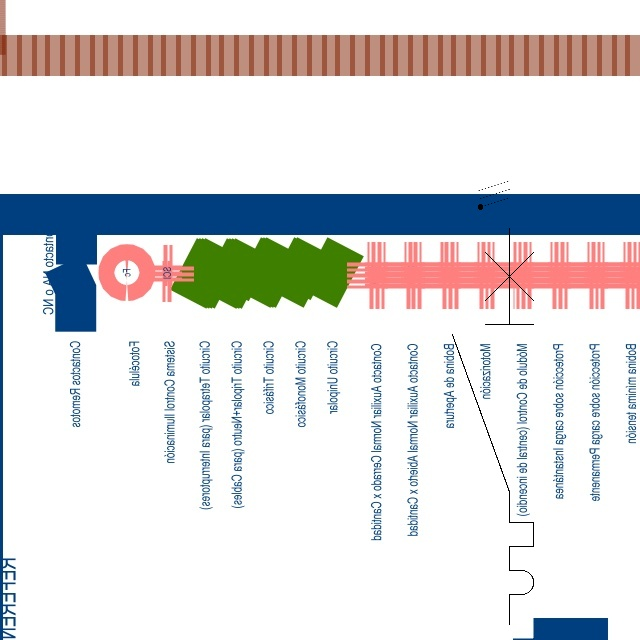interruptor_termomagnetico: (442, 218, 544, 635)
